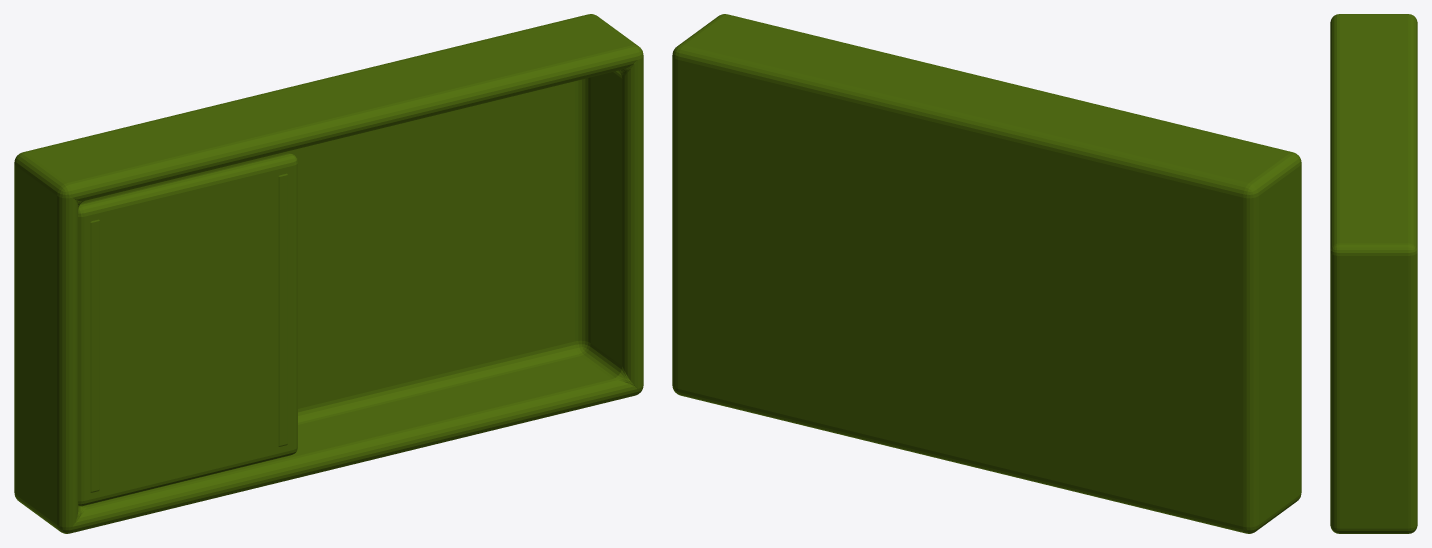
File: tray_01_link.obj
3 views of the same model, side by side, from view 1: azimuth 30°, elevation 25°; view 2: azimuth 150°, elevation 25°; view 3: azimuth 270°, elevation 25° (orthographic). The views are drawn at different scales.
Visible parts, largest first — view 1: tray_01_link; view 2: tray_01_link; view 3: tray_01_link.
Boxes of the visible parts, left/top/right/bottom form: tray_01_link: left=14, top=14, right=643, bottom=533; tray_01_link: left=672, top=14, right=1301, bottom=533; tray_01_link: left=1330, top=14, right=1417, bottom=533.
Bounding box in the file's own units: 1.12 × 0.64 × 0.175.
